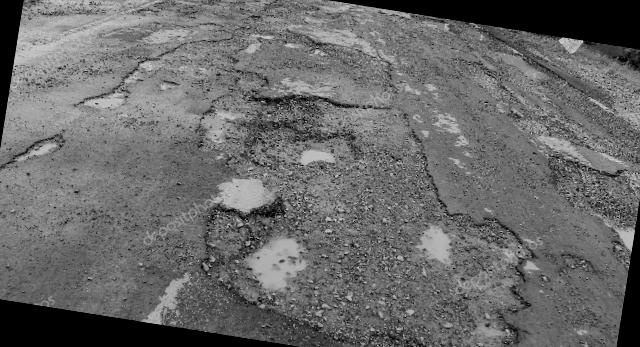Pothole: (146, 65, 575, 347), (518, 136, 640, 257), (488, 36, 554, 100), (427, 16, 484, 53)
